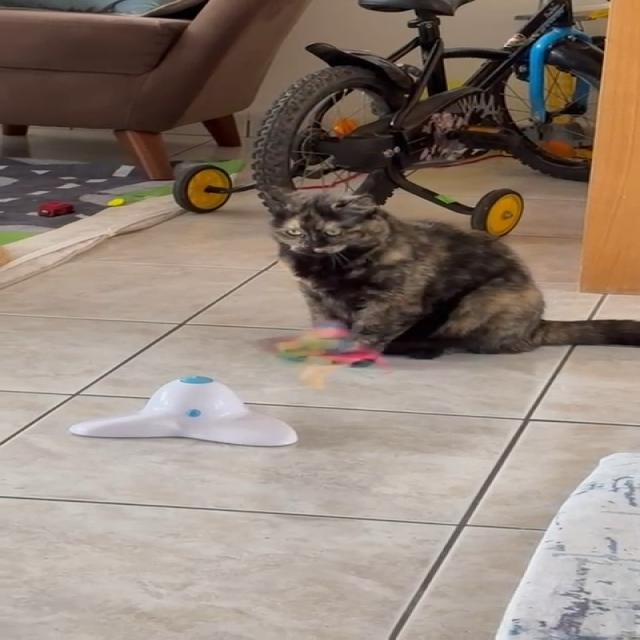authorized: (257, 186, 639, 360)
